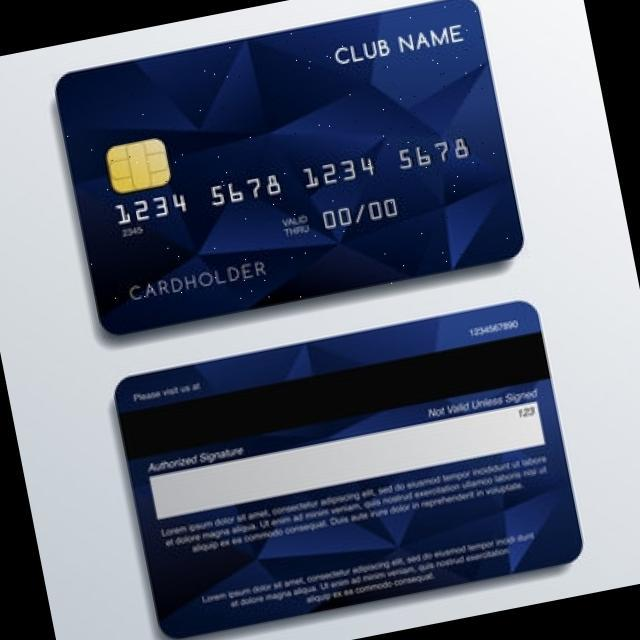payment_card: (112, 299, 584, 637), (55, 0, 527, 334)
